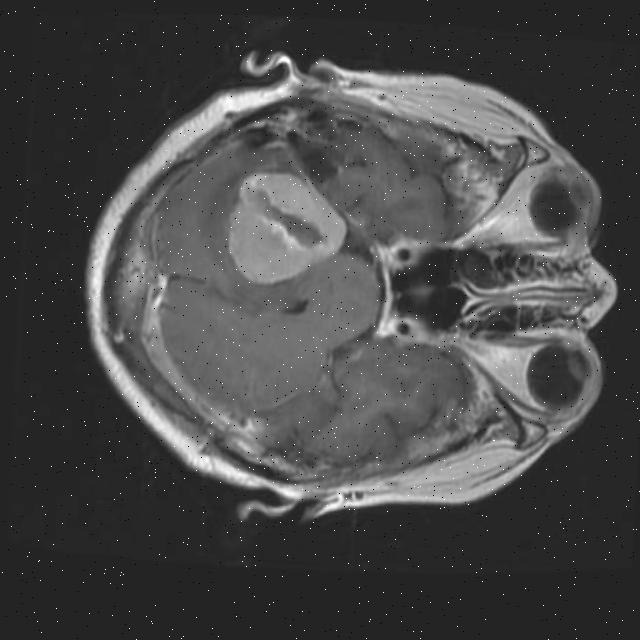Meningioma: (221, 165, 351, 290)
